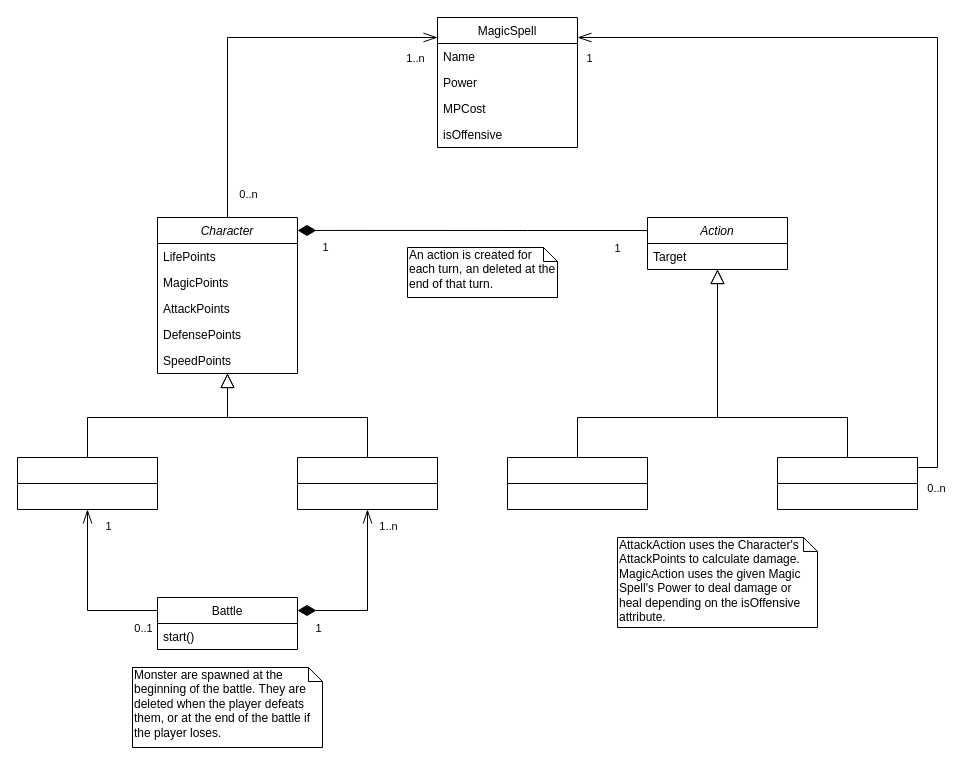
The diagram is 969 pixels wide and 765 high, and some of its shapes have lost their labels. Each missing label, with the centre of its shape:
"AttackAction" belongs at (x=577, y=483).
"MagicAction" belongs at (x=847, y=483).
"Monster" belongs at (x=367, y=483).
"PlayerCharacter" belongs at (x=87, y=483).
